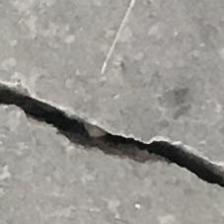Crack: (0, 62, 224, 196)
